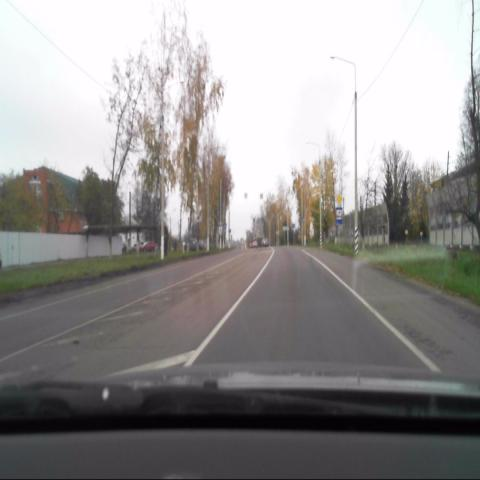2_1: (335, 192, 343, 207)
7_2: (336, 208, 343, 225)
